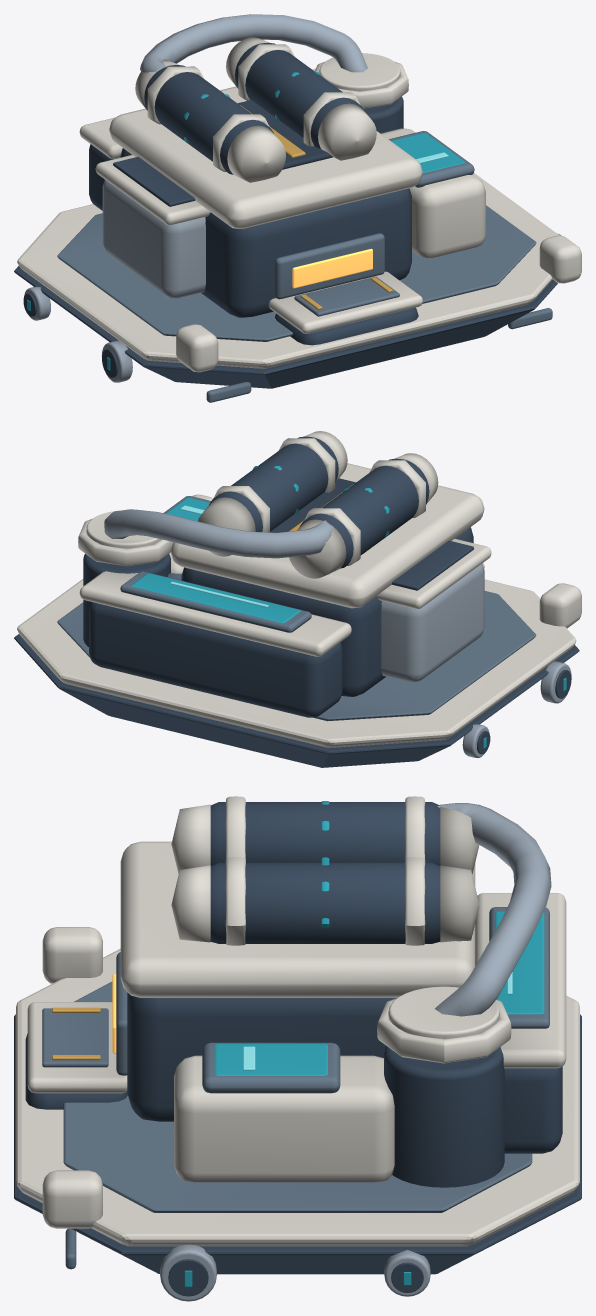
Rendered from interstellar_refinery_lv5.glb.
The picture shows the model from 3 angles, top to bottom: view 1: azimuth 30°, elevation 25°; view 2: azimuth 150°, elevation 25°; view 3: azimuth 270°, elevation 25°; orthographic projection. The views are drawn at different scales.
Visible parts, largest first — view 1: Structure; view 2: Structure; view 3: Structure.
Boxes of the visible parts, left/top/right/bottom form: Structure: left=14, top=14, right=581, bottom=402; Structure: left=14, top=431, right=581, bottom=767; Structure: left=14, top=796, right=581, bottom=1301.
Size of the model in its own units: 8.17 by 3.87 by 6.41.
